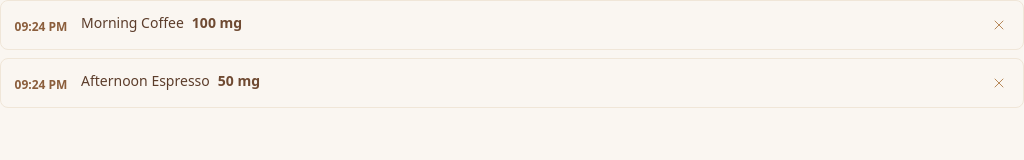
Test case: DrinkLogTimeline › enters time editing mode when time button is clicked
Click the button with aria-label "edit time". click: (41, 27)
box: [15, 19, 68, 35]
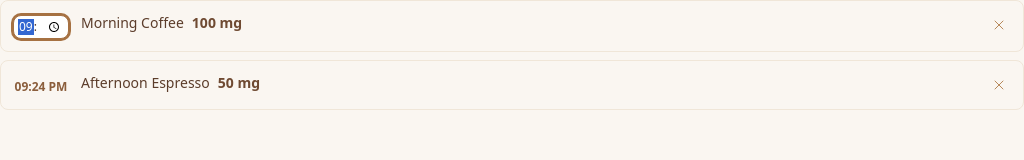
Now the time field named "edit drink time" is shown, box [13, 15, 69, 39]
